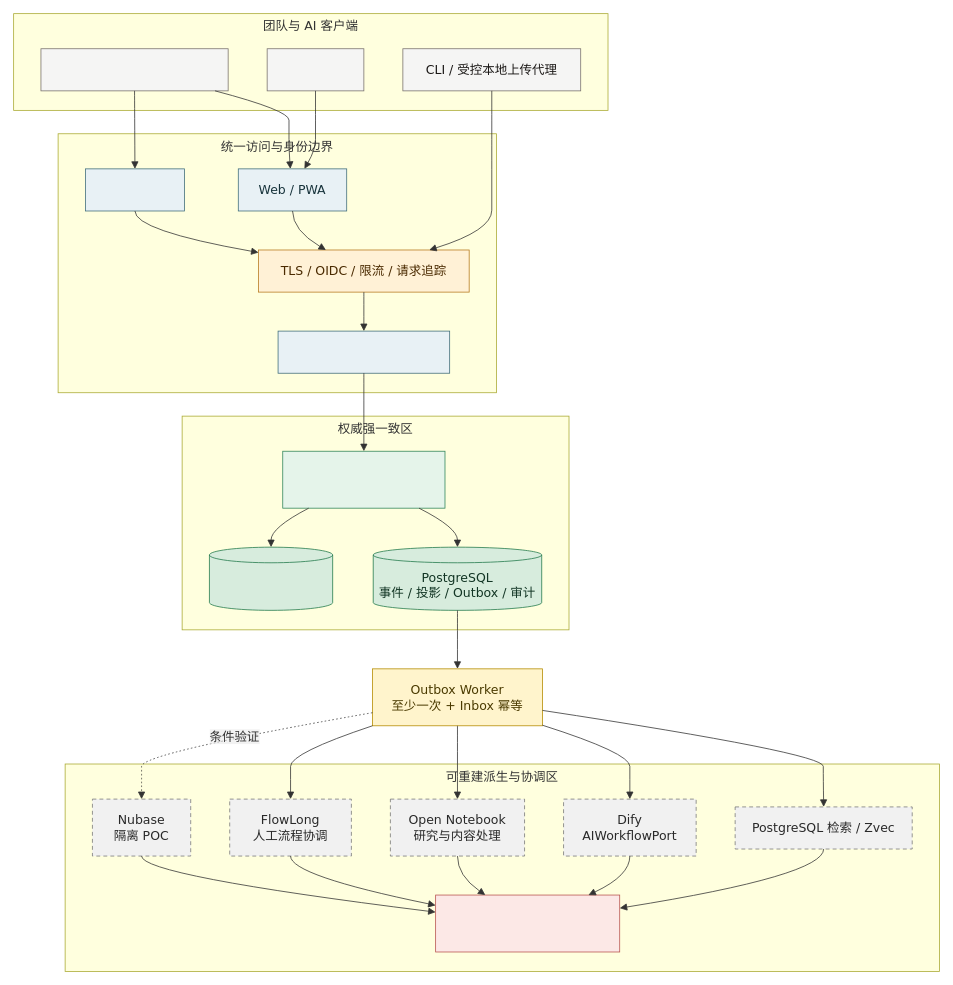
The diagram is 953 pixels wide and 985 high, and some of its shapes have lost their labels. The shapes that lost their labels are listed below. From the top down, each one's centre as x and y in pixels, then its label:
(x=134, y=69): Codex / Claude / 其他 AI
(x=315, y=69): 团队成员
(x=134, y=189): 远程 MCP
(x=363, y=351): 版本化 API 与应用服务
(x=363, y=479): 领域核心 状态机 / 权限 / 审批
(x=271, y=578): S3 兼容对象存储 SHA-256 不可变原件
(x=527, y=923): 统一候选结果 下一业务命令由核心复核
